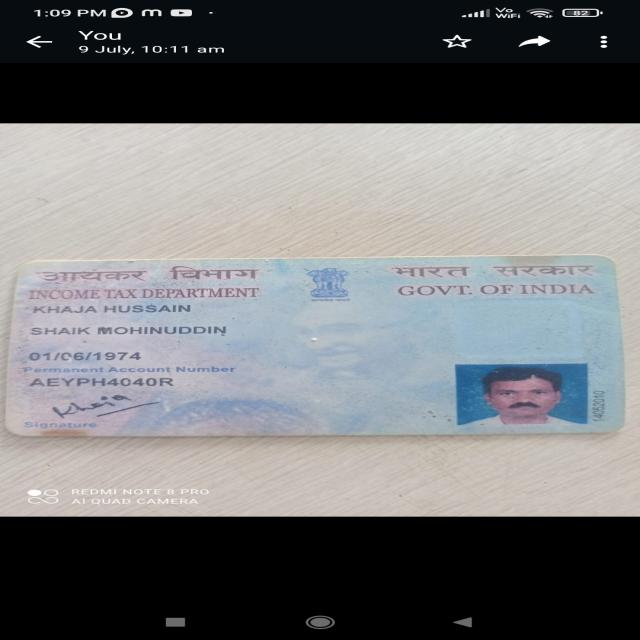pan_card: (2, 259, 618, 435)
